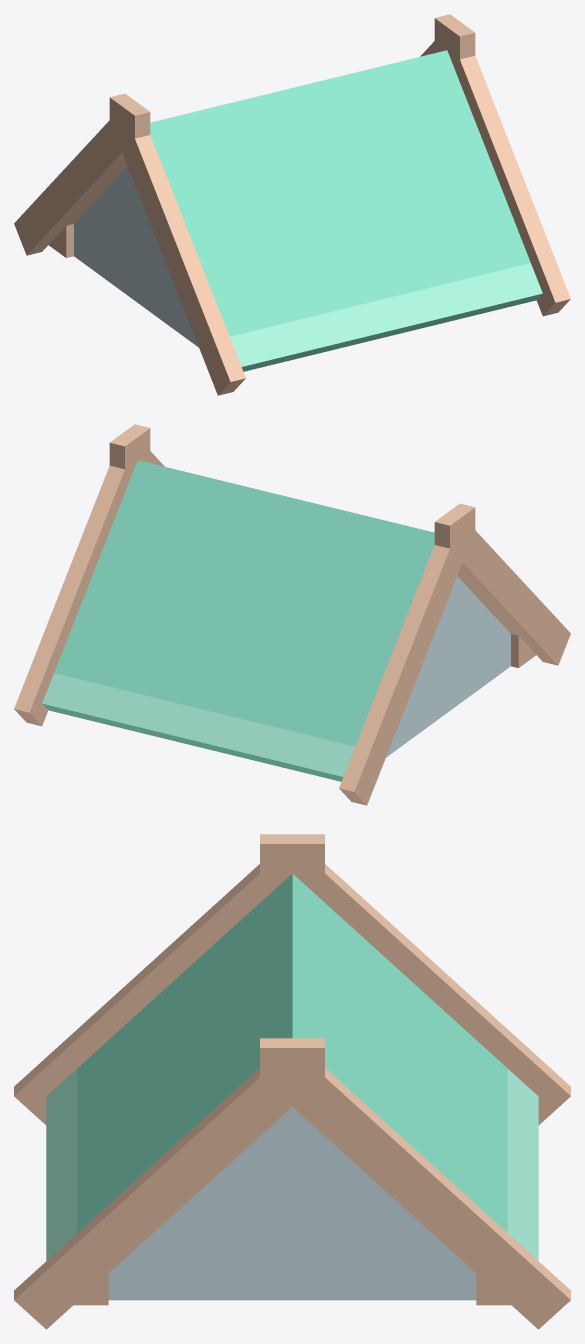
3 renders of one model, top to bottom at view 1: azimuth 30°, elevation 25°; view 2: azimuth 150°, elevation 25°; view 3: azimuth 270°, elevation 25°, orthographic. The views are drawn at different scales.
Visible parts, largest first — view 1: roofGableDetail; view 2: roofGableDetail; view 3: roofGableDetail.
Part boxes in pixels (<box>): roofGableDetail: <box>14,14,570,395</box>; roofGableDetail: <box>14,424,570,805</box>; roofGableDetail: <box>14,834,570,1329</box>.
Bounding box in the file's own units: 1.1 × 0.6768 × 1.21.
